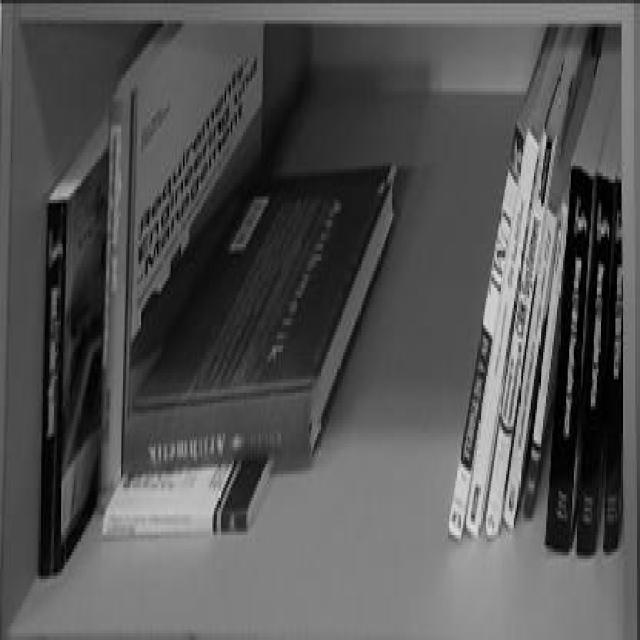book: (121, 154, 396, 469), (447, 125, 577, 542), (25, 180, 103, 576), (546, 163, 593, 557), (607, 183, 625, 559), (582, 183, 599, 547)
